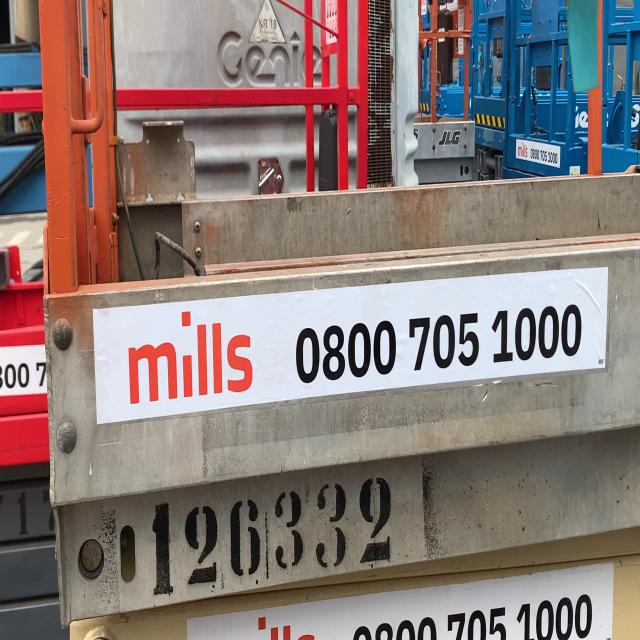Adesivo Longo: (90, 261, 612, 430)
